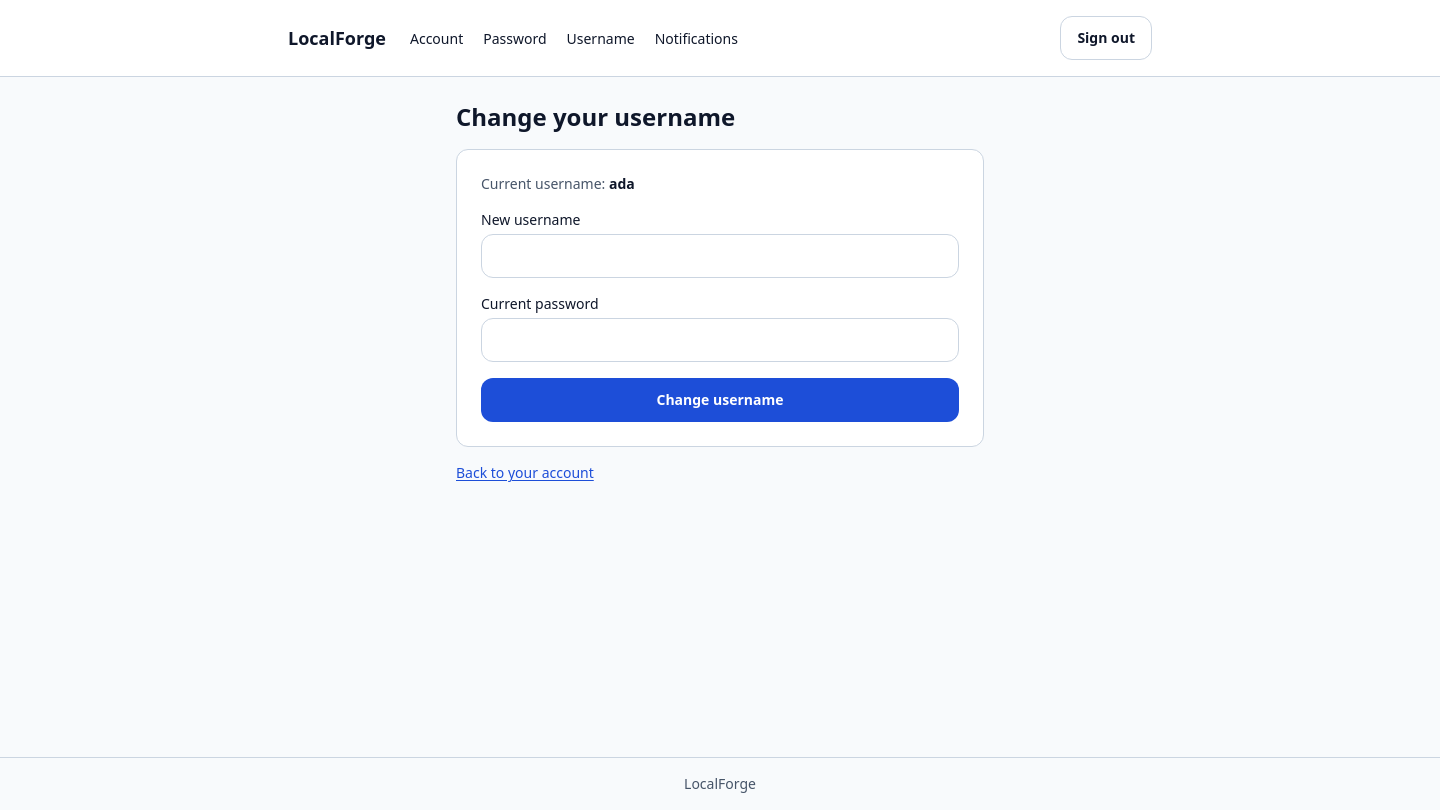
ChangeUsernamePage › changes the username, refreshes the profile, and clears the password
This screenshot has width=1440, height=810.
Type "grace" into the field labelled "New username" at (720, 256), box x1=481 y1=234 x2=959 y2=278
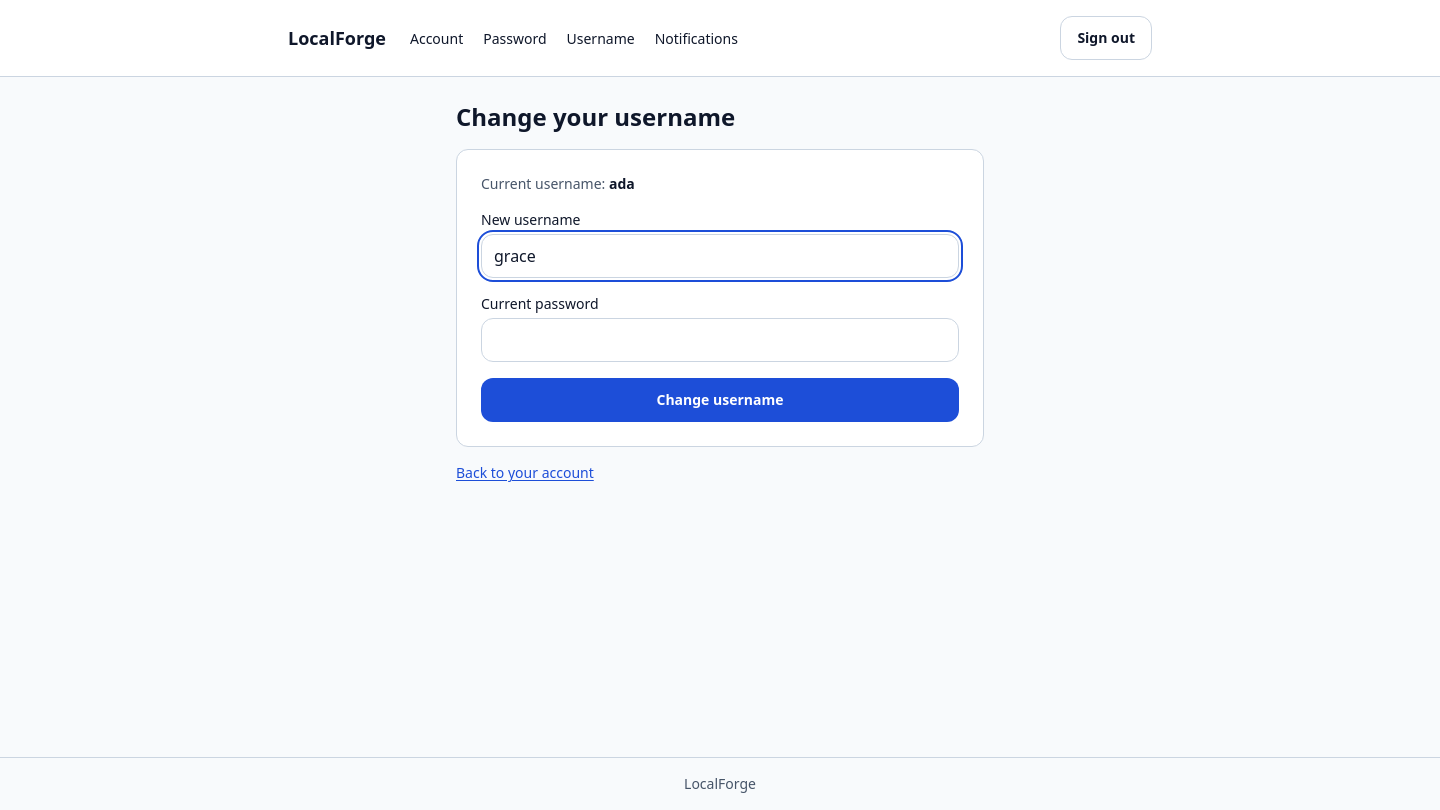
Type "correct horse" into the password field labelled "Current password" at (720, 340), box x1=481 y1=318 x2=959 y2=362
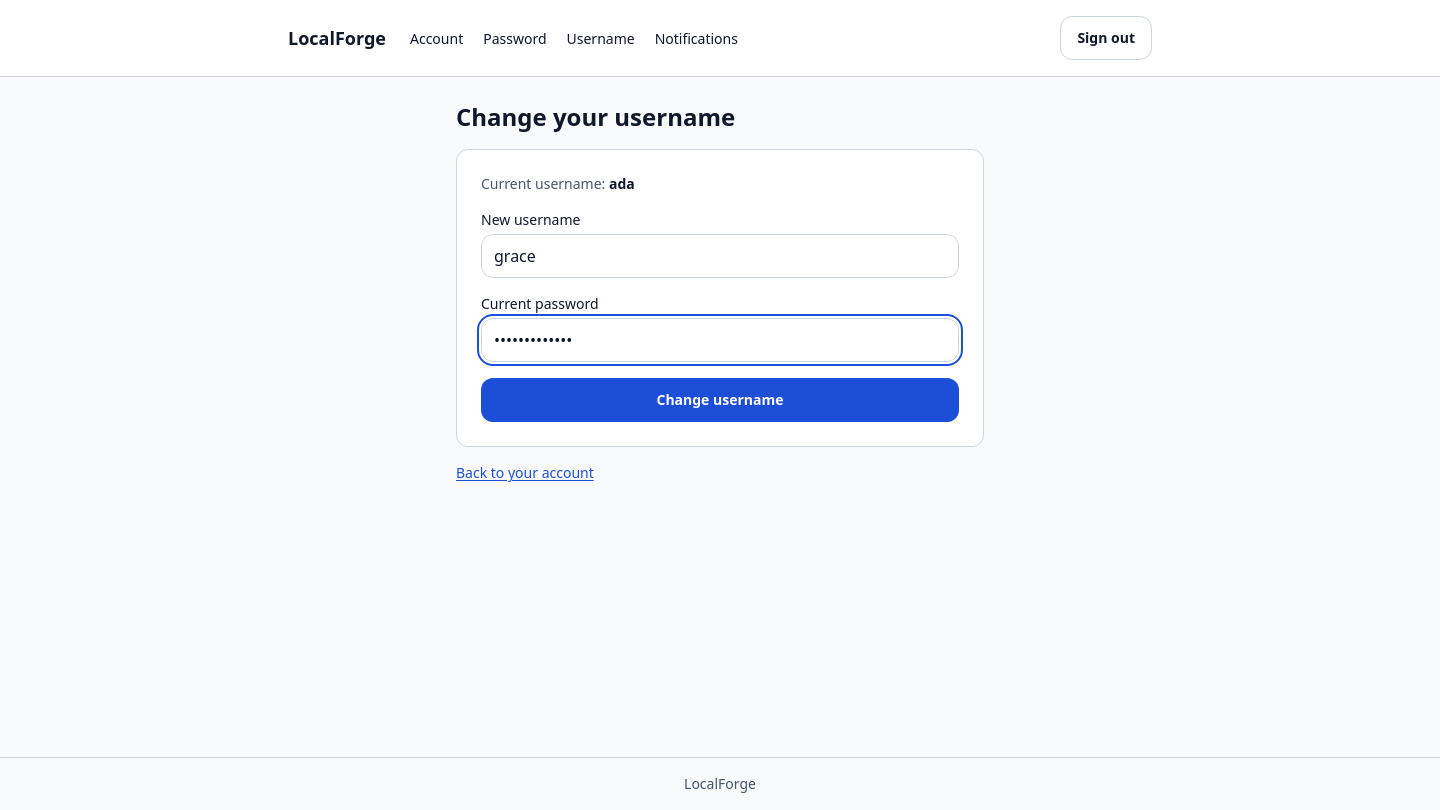
Click the button "Change username" at (720, 400), box x1=481 y1=378 x2=959 y2=422
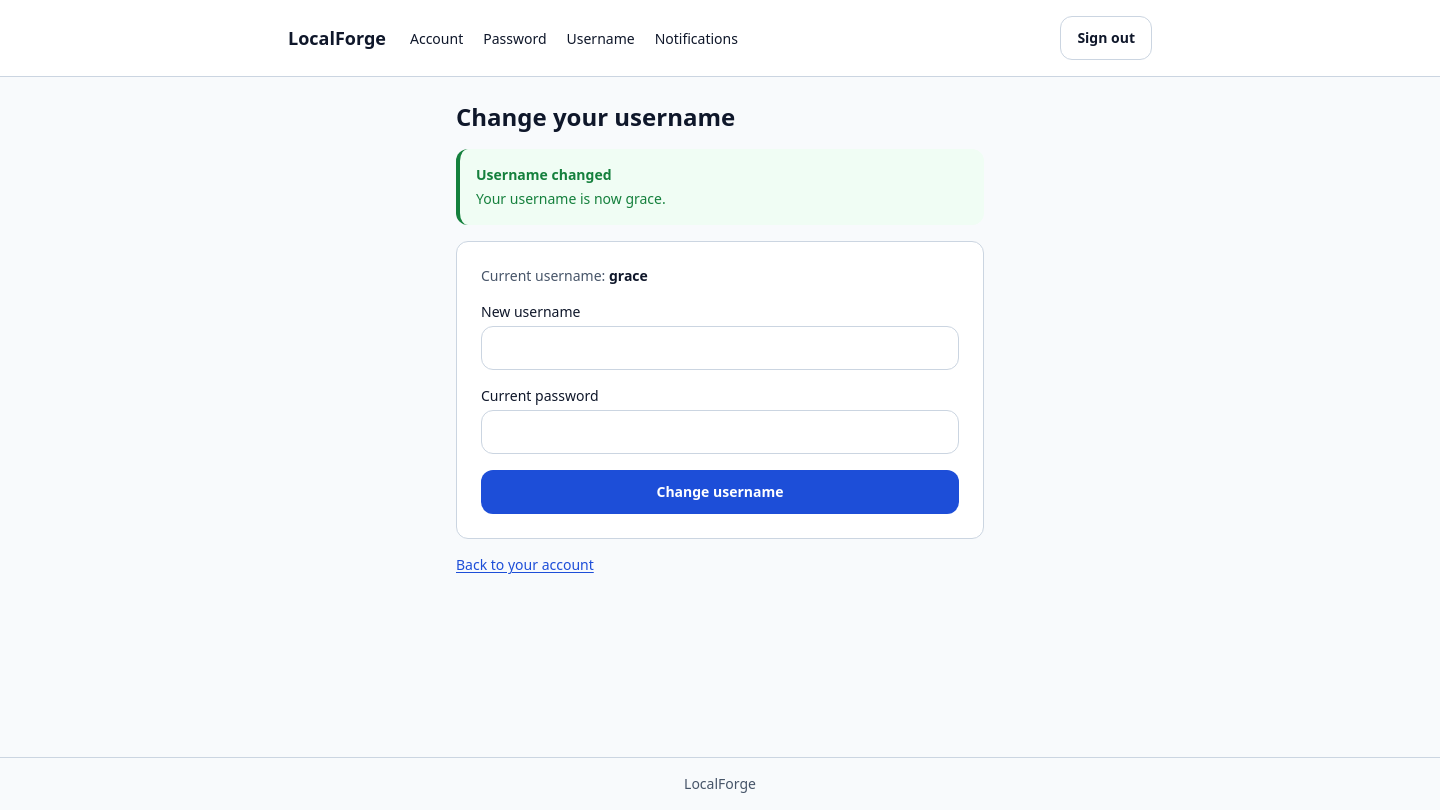
Expected: the text "Username changed" is shown, x1=476 y1=165 x2=612 y2=184
Expected: the text "Your username is now grace." is shown, x1=476 y1=189 x2=666 y2=208
Expected: the text "grace" is shown, x1=609 y1=266 x2=648 y2=285
